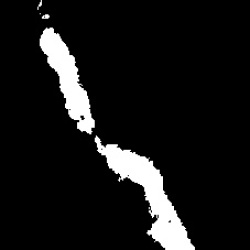crack: (97, 136, 193, 247), (38, 3, 95, 133)
